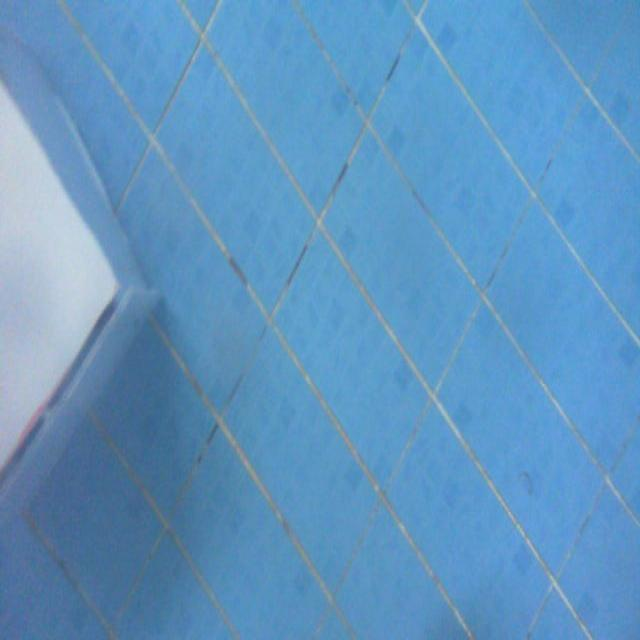Cube: (0, 4, 152, 512)
